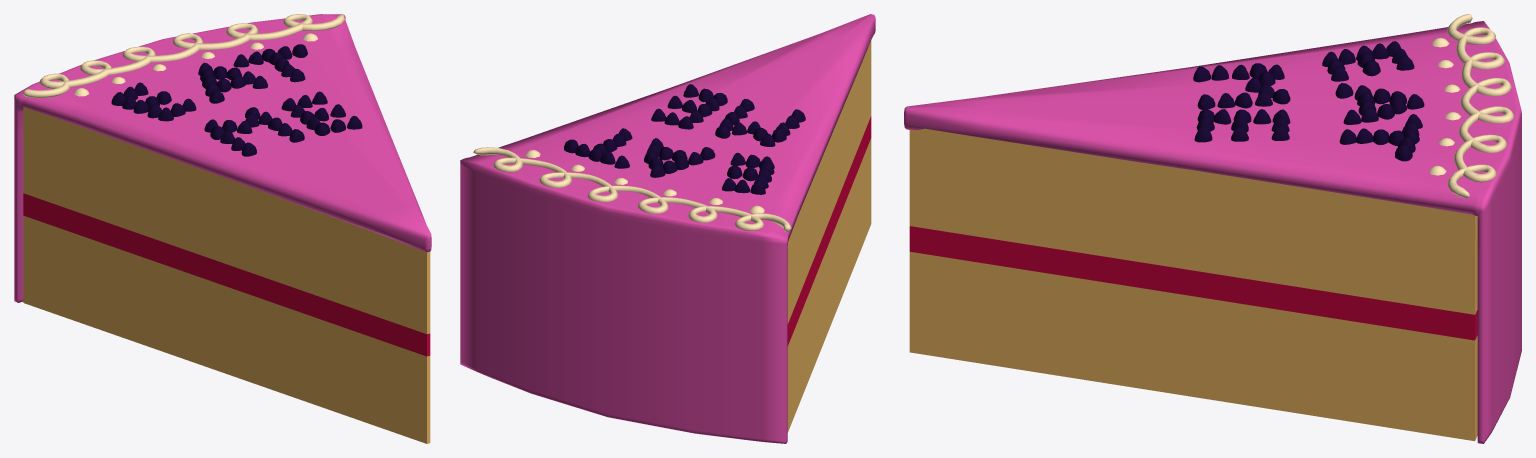
Rendered from Cake.FBX.
3 renders of one model, left to right at view 1: azimuth 30°, elevation 25°; view 2: azimuth 150°, elevation 25°; view 3: azimuth 270°, elevation 25°, orthographic. The views are drawn at different scales.
Visible parts, largest first — view 1: Line004, Line005, Line006; view 2: Line005, Line004, Line006; view 3: Line004, Line005, Line006.
Part boxes in pixels (x1,y1,x2,y2): Line004: (23,107,430,443); Line005: (14,14,431,302); Line006: (23,14,345,98); Line005: (460,14,875,443); Line004: (787,40,871,432); Line006: (473,147,791,231); Line004: (909,128,1477,441); Line005: (904,21,1521,443); Line006: (1447,14,1514,198).
Size of the model in its own units: 3.34 by 2.15 by 4.71.
